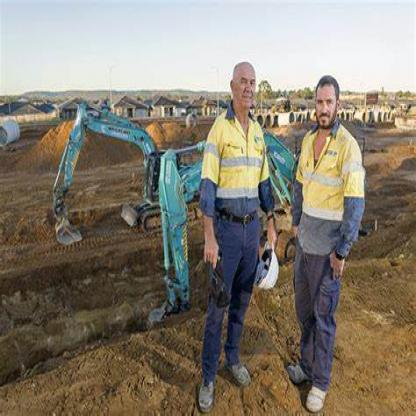person: (279, 55, 364, 410), (192, 54, 265, 403)
